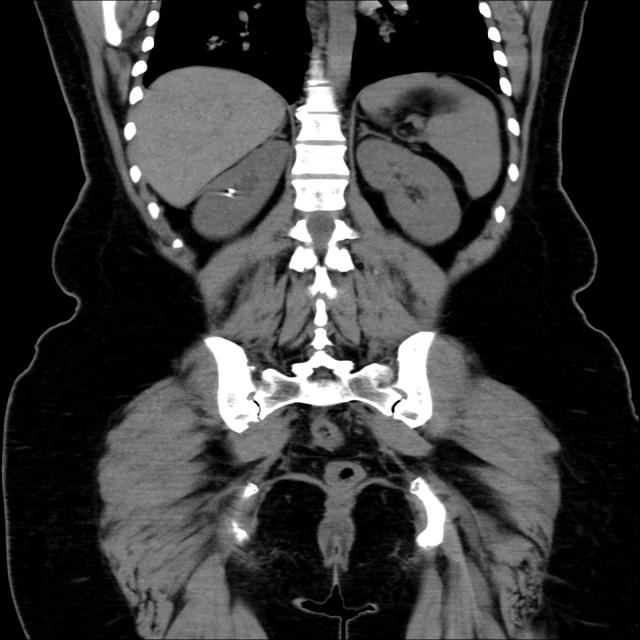kidneystone: (226, 188, 237, 197)
